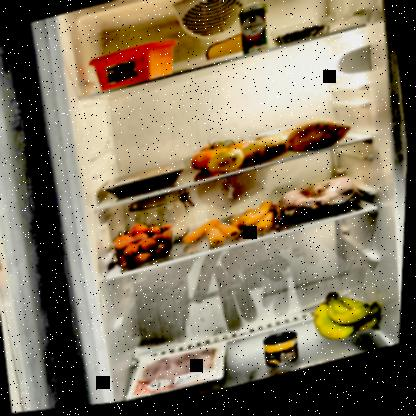banana: (307, 283, 395, 357)
beef: (101, 160, 191, 206)
blueberries: (271, 25, 335, 54)
butter: (84, 39, 185, 95)
carrot: (180, 204, 284, 258)
cheese: (204, 34, 257, 69)
chicken: (278, 175, 373, 235)
corn: (262, 333, 307, 377)
heavy_cream: (232, 2, 274, 61)
onion: (206, 150, 249, 182)
strawberries: (110, 216, 183, 276)
sweet_potato: (241, 116, 355, 175)
tomato: (188, 134, 259, 180)
